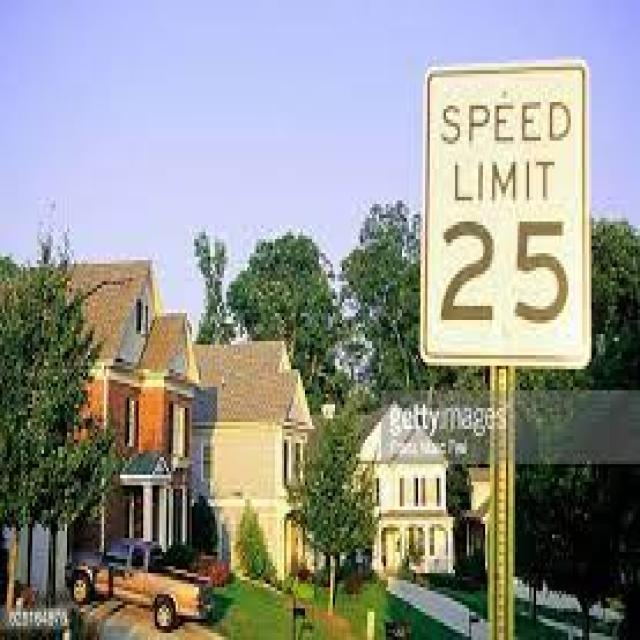speedLimit25: (412, 47, 592, 371)
